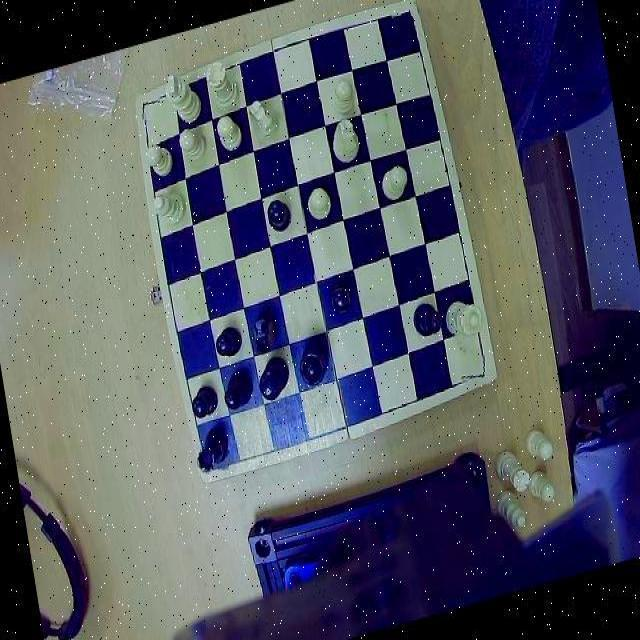chess-table-corners: (458, 350, 496, 390), (196, 444, 232, 482), (390, 1, 422, 36), (134, 90, 162, 125)
